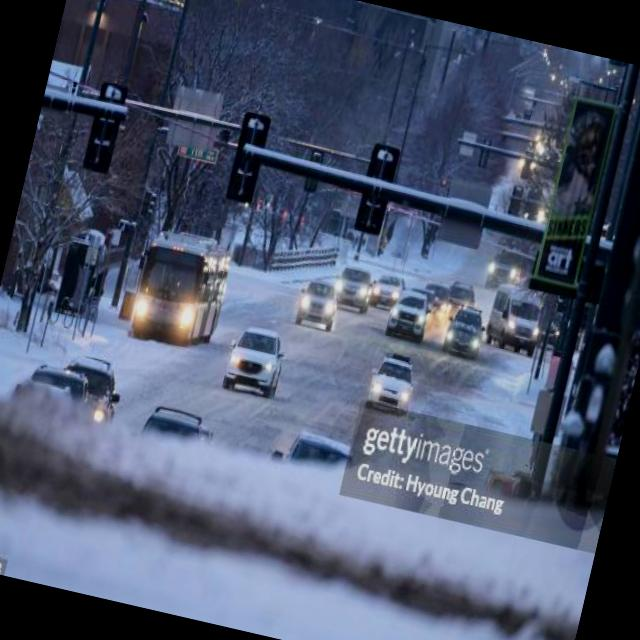Vehicle: (123, 227, 240, 353), (215, 314, 293, 404), (483, 276, 551, 364), (354, 342, 426, 412), (440, 296, 487, 368), (290, 276, 344, 338), (383, 291, 434, 341), (336, 259, 377, 313)
